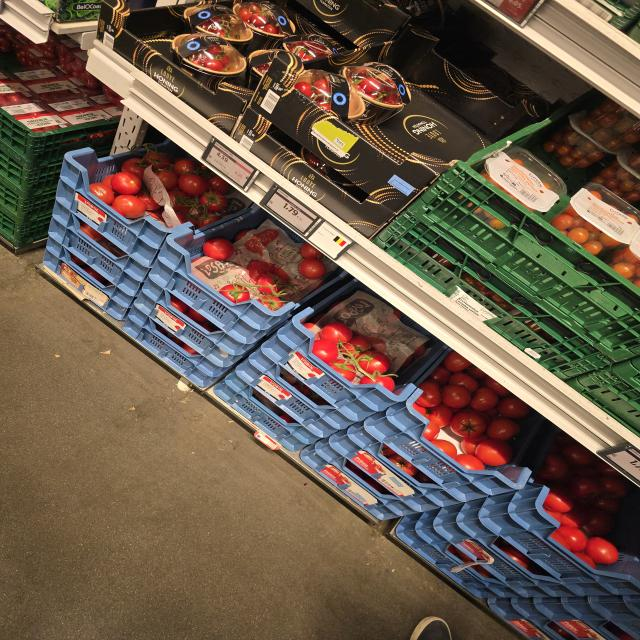Tomato: (476, 439, 512, 466), (584, 537, 619, 564), (553, 525, 587, 552), (580, 509, 614, 536), (450, 412, 486, 437), (111, 195, 146, 219), (358, 350, 390, 375), (487, 416, 520, 440), (544, 488, 574, 513), (497, 397, 530, 419), (441, 384, 471, 408), (470, 387, 499, 411), (203, 238, 234, 260), (320, 322, 352, 343), (112, 172, 141, 195), (257, 274, 287, 296), (312, 339, 338, 364), (417, 380, 441, 407), (449, 372, 479, 393), (427, 404, 453, 428), (219, 283, 250, 303), (178, 174, 207, 195), (200, 190, 227, 212), (331, 359, 356, 382), (122, 158, 148, 180), (299, 259, 326, 280), (90, 183, 114, 205), (455, 454, 485, 470), (426, 366, 451, 385), (155, 170, 178, 190), (173, 158, 195, 175)
